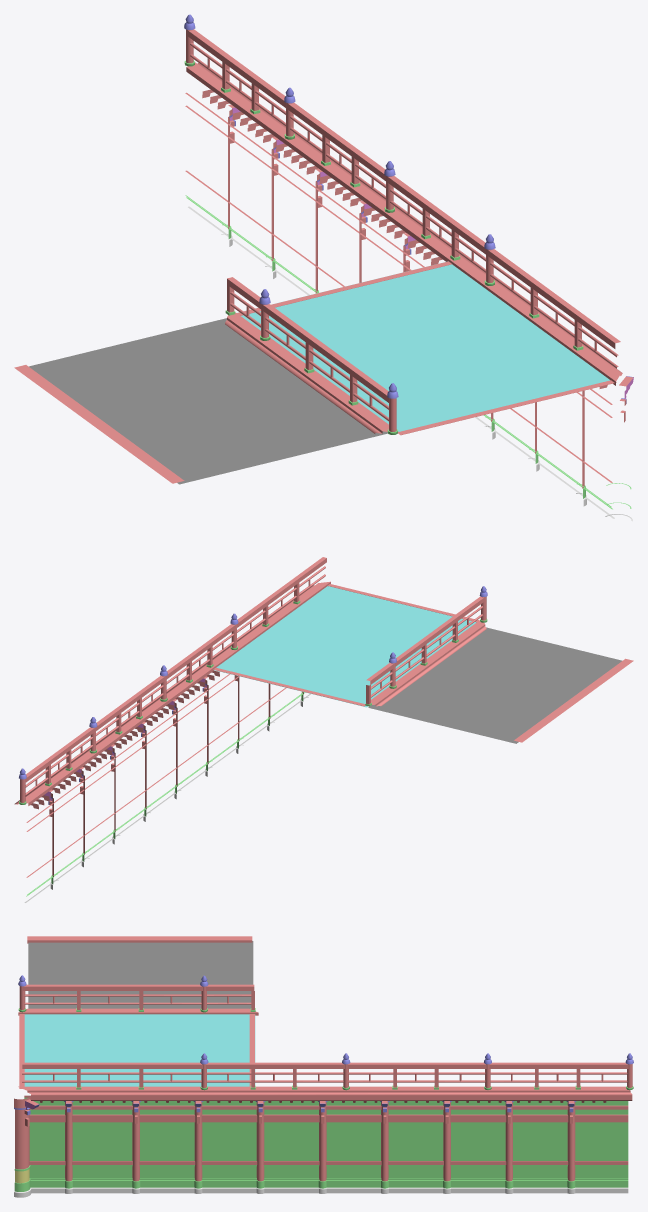
Rendered from SM_ENV_KNVLLG03_Bridge_PlatformConnectorA.gltf.
3 renders of one model, top to bottom at view 1: azimuth 30°, elevation 25°; view 2: azimuth 150°, elevation 25°; view 3: azimuth 270°, elevation 25°, orthographic. The views are drawn at different scales.
Parts seen in each view (by area): view 1: SM_ENV_KNVLLG03_Bridge_PlatformConnectorA; view 2: SM_ENV_KNVLLG03_Bridge_PlatformConnectorA; view 3: SM_ENV_KNVLLG03_Bridge_PlatformConnectorA.
Boxes of the visible parts, bbox=[...] form: SM_ENV_KNVLLG03_Bridge_PlatformConnectorA: bbox=[14, 14, 633, 521]; SM_ENV_KNVLLG03_Bridge_PlatformConnectorA: bbox=[14, 557, 633, 902]; SM_ENV_KNVLLG03_Bridge_PlatformConnectorA: bbox=[14, 936, 633, 1197].
Size of the model in its own units: 20.08 by 8.12 by 32.56.
